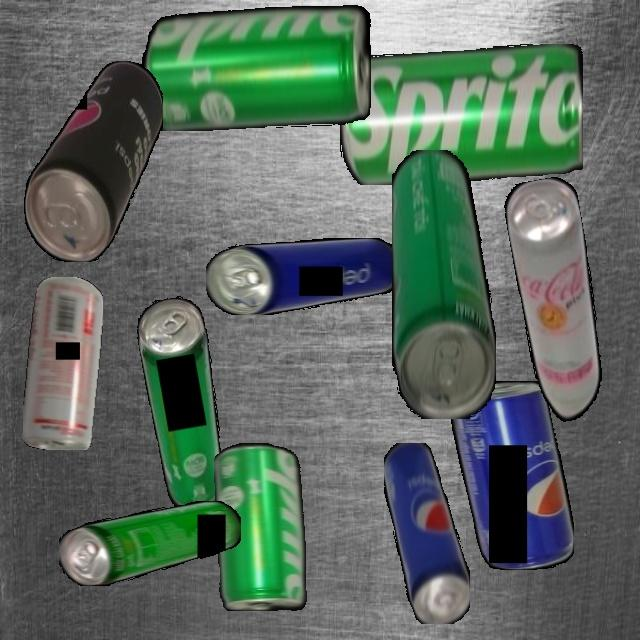debris: (339, 43, 583, 185), (141, 4, 371, 131), (501, 174, 615, 425), (391, 149, 496, 419), (23, 60, 163, 262), (447, 381, 574, 570), (132, 293, 237, 515), (383, 442, 470, 624), (214, 442, 307, 611), (59, 500, 241, 586), (206, 237, 400, 315), (22, 277, 103, 450)
